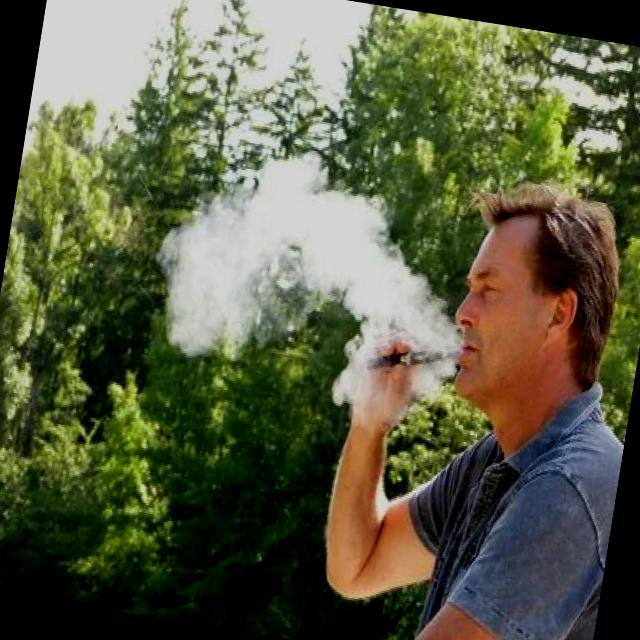smoke: (353, 326, 473, 389)
